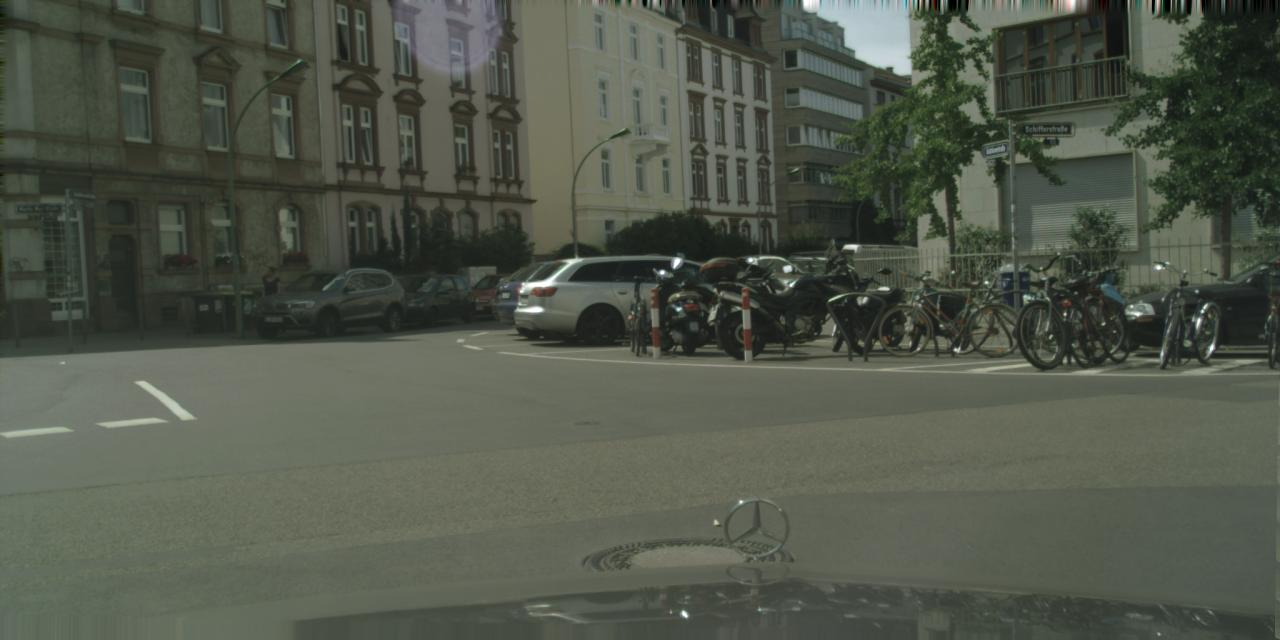ped: (258, 266, 286, 331)
